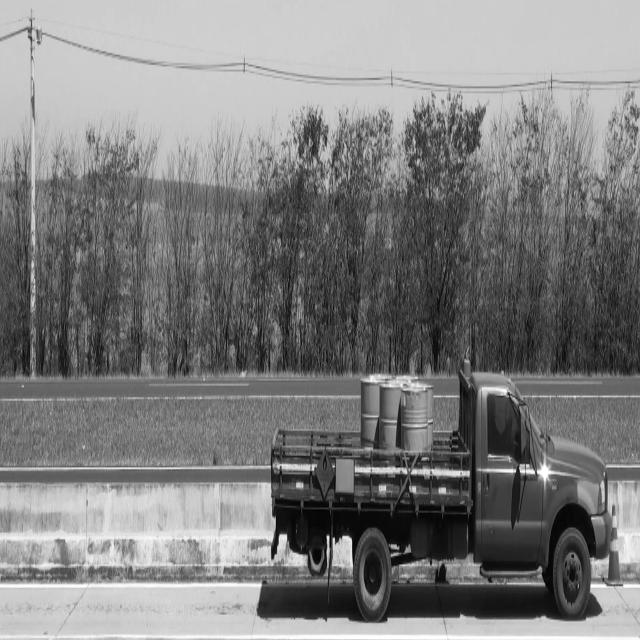Pole: (30, 10, 36, 378)
Truck: (271, 373, 610, 620)
